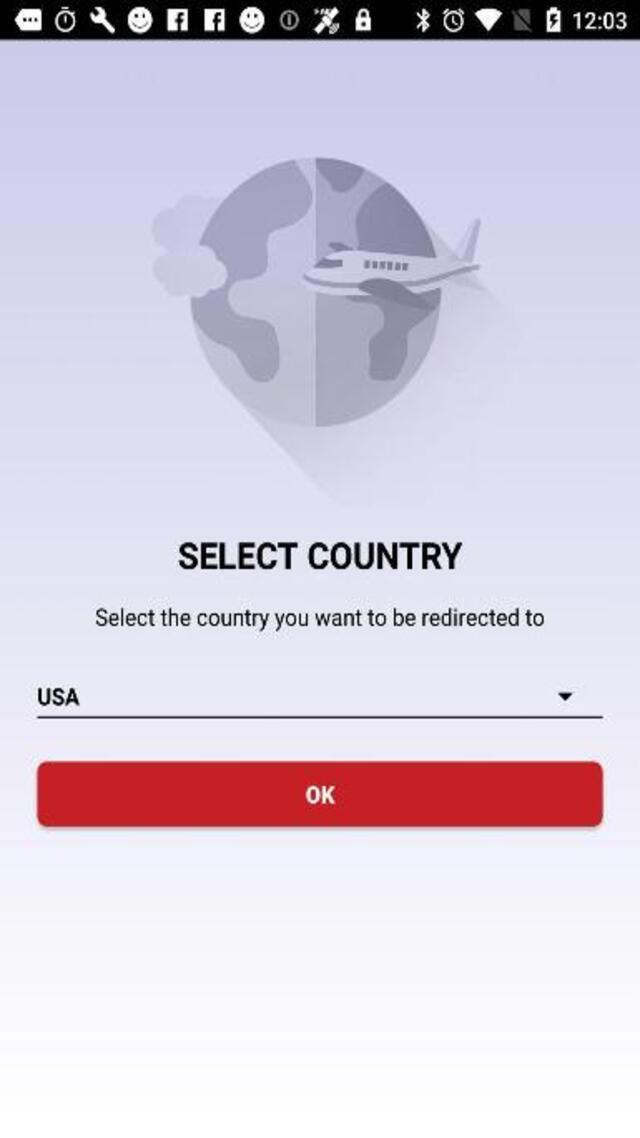Icon: (558, 692, 572, 702)
Image: (152, 156, 490, 428)
Text: (94, 608, 544, 630), (179, 542, 463, 570), (300, 779, 338, 808), (37, 688, 79, 706)
TextButton: (38, 760, 604, 826)
